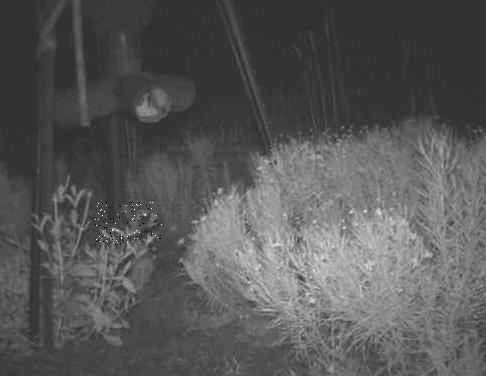Raccoon: (94, 202, 162, 246)
